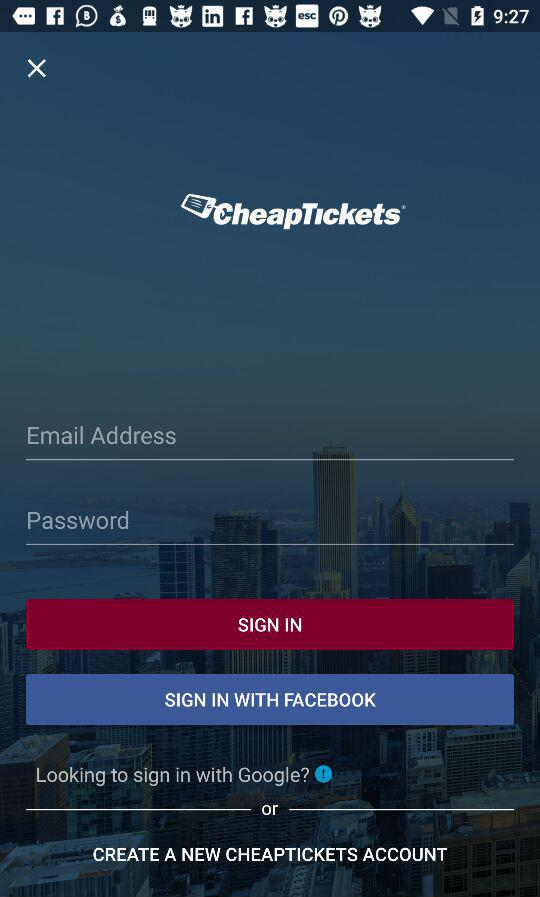BackgroundImage: (1, 33, 540, 897)
EditText: (26, 425, 515, 462), (26, 511, 514, 546)
Icon: (28, 59, 48, 79), (315, 765, 333, 784)
Image: (180, 193, 407, 231)
Text: (37, 765, 310, 787), (93, 847, 448, 863), (28, 426, 177, 446), (29, 511, 130, 530), (262, 804, 279, 816)
TextButton: (26, 598, 514, 651), (26, 674, 515, 726)
UpperTaskBar: (1, 1, 540, 33)
